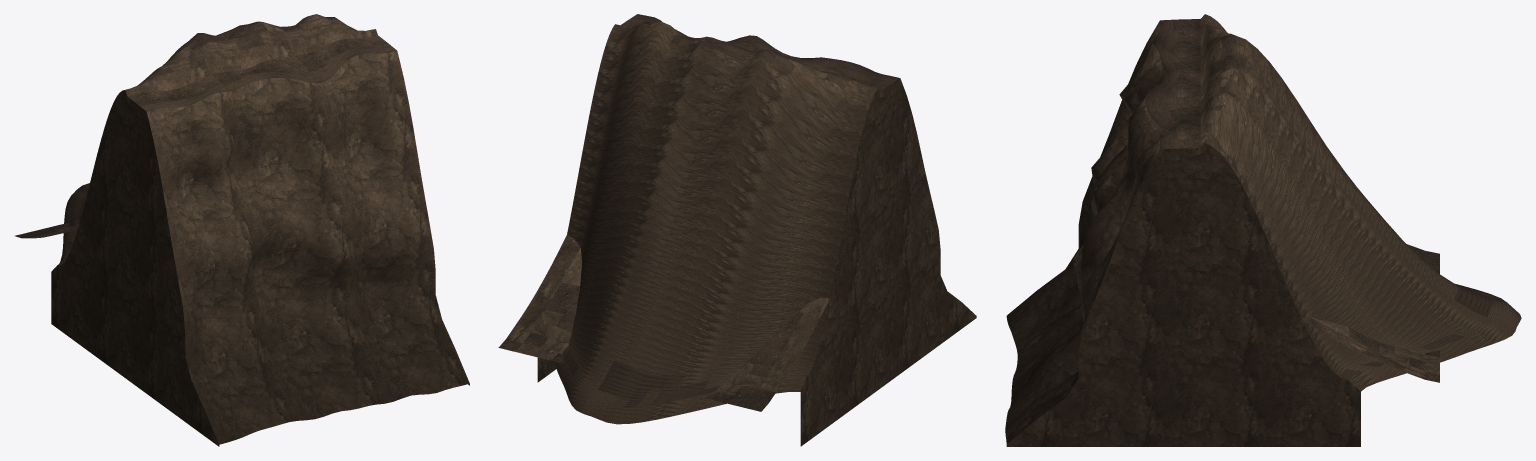
Rendered from seacliff_straight6b_h5_v5_dead.glb.
3 views of the same model, side by side, from view 1: azimuth 30°, elevation 25°; view 2: azimuth 150°, elevation 25°; view 3: azimuth 270°, elevation 25° (orthographic). The views are drawn at different scales.
Parts seen in each view (by area): view 1: seacliff_straight6b_h5; view 2: seacliff_straight6b_h5; view 3: seacliff_straight6b_h5.
Boxes of the visible parts, x1=… form: seacliff_straight6b_h5: x1=15, y1=14, x2=469, y2=446; seacliff_straight6b_h5: x1=498, y1=14, x2=976, y2=446; seacliff_straight6b_h5: x1=1005, y1=14, x2=1521, y2=446.
Size of the model in its own units: 6 by 7.16 by 10.14.
2 materials, 2 textured.
